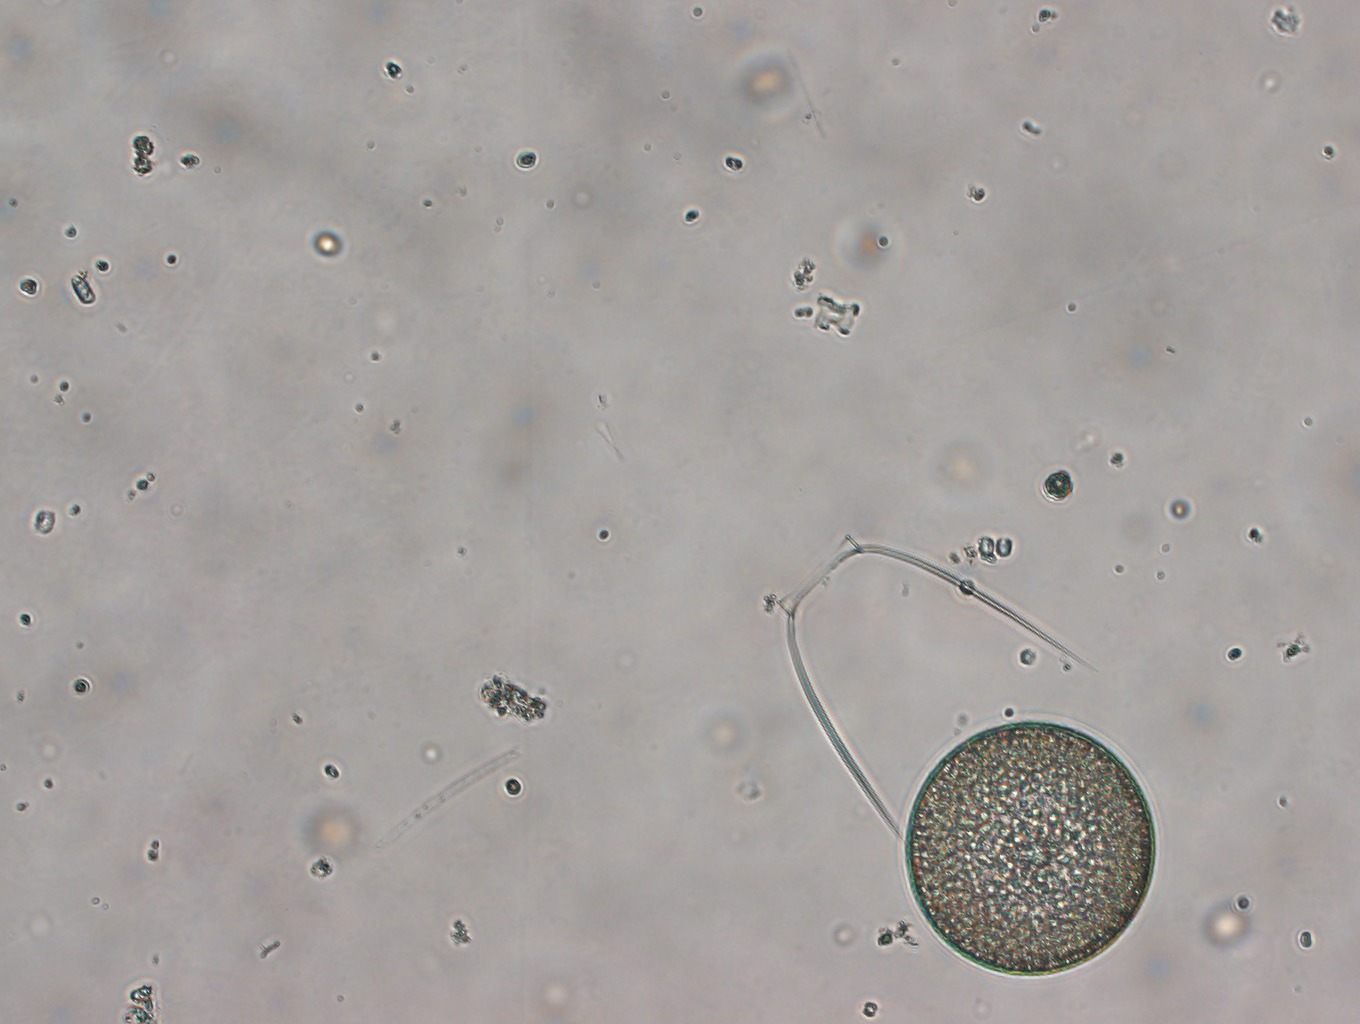chaetoceros: (750, 515, 1096, 843)
coscinodiscus: (899, 717, 1162, 984)
